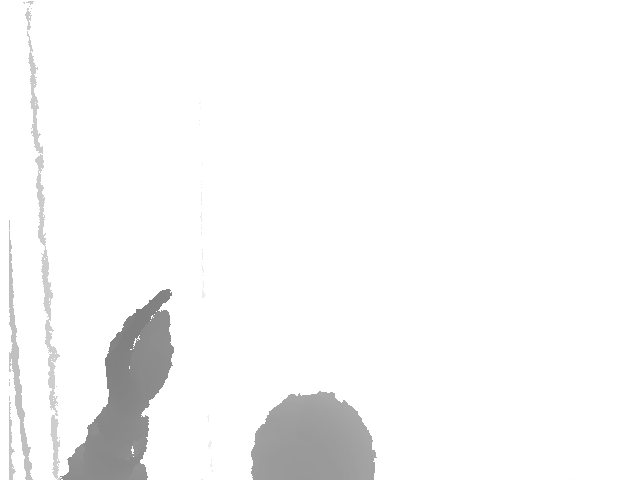hand: (102, 290, 176, 413)
head: (251, 392, 375, 480)
person: (63, 289, 375, 480)
